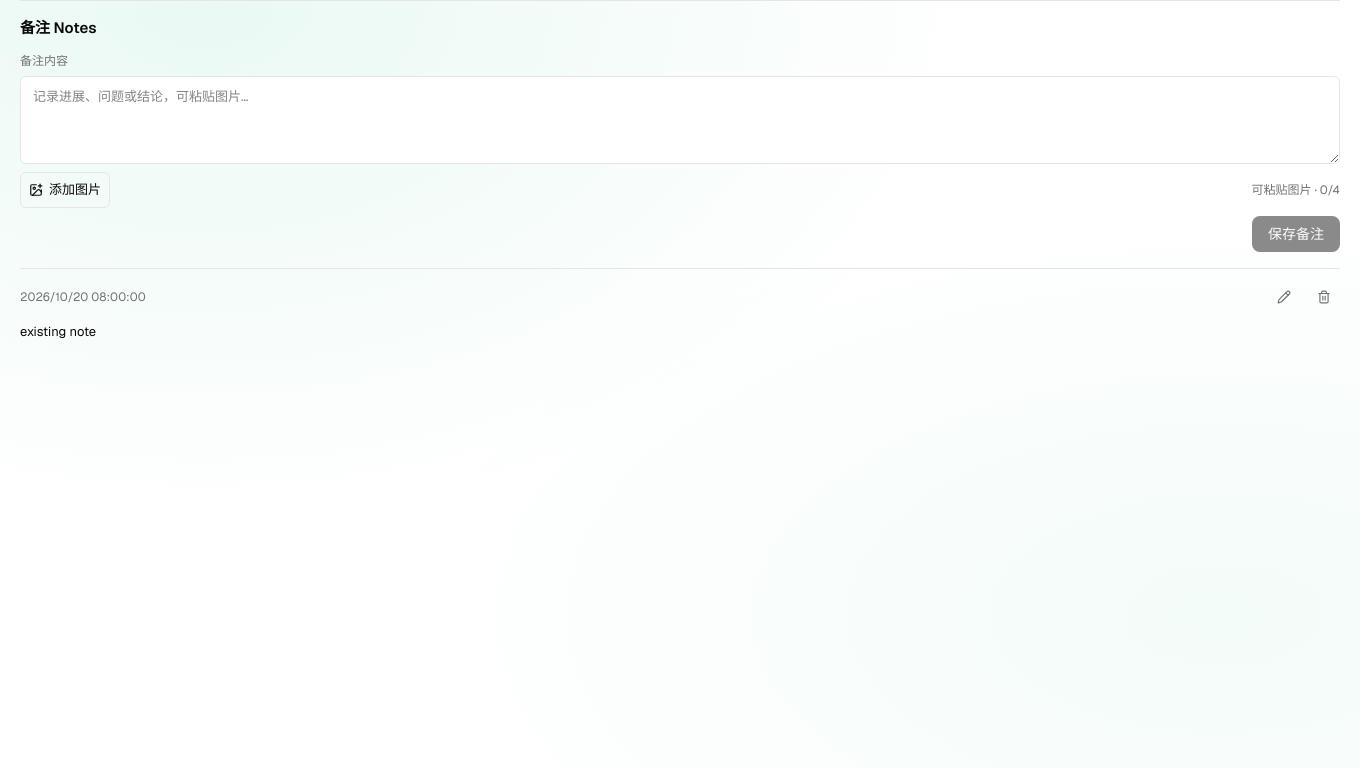
Test: task image notes › keeps conflict state and draft if loading the latest version fails
Check: the text "existing note" is shown, box [20,322,96,340]
Click the button named "编辑备注" at [1284, 296], box [1268,280,1300,312]
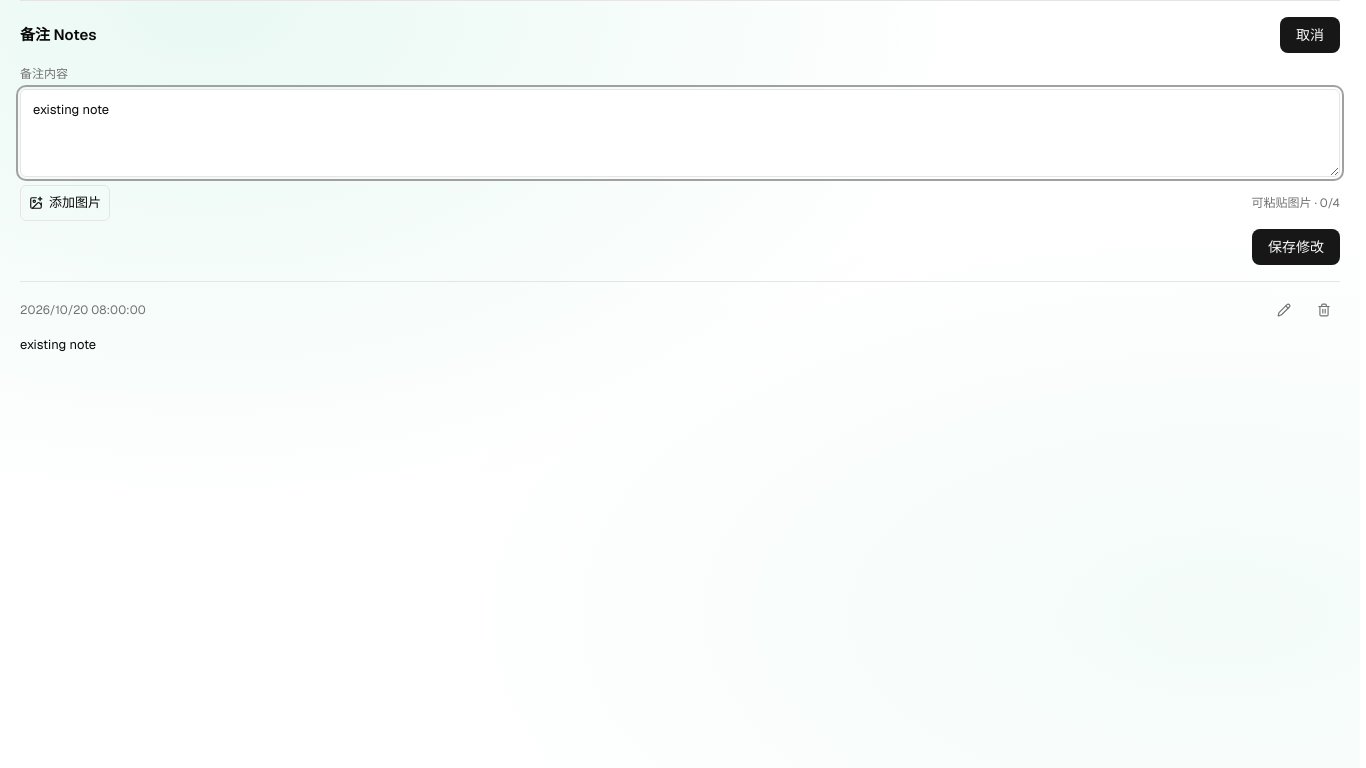
Type " draft" into the text box at [680, 133], box [20,89,1340,177]
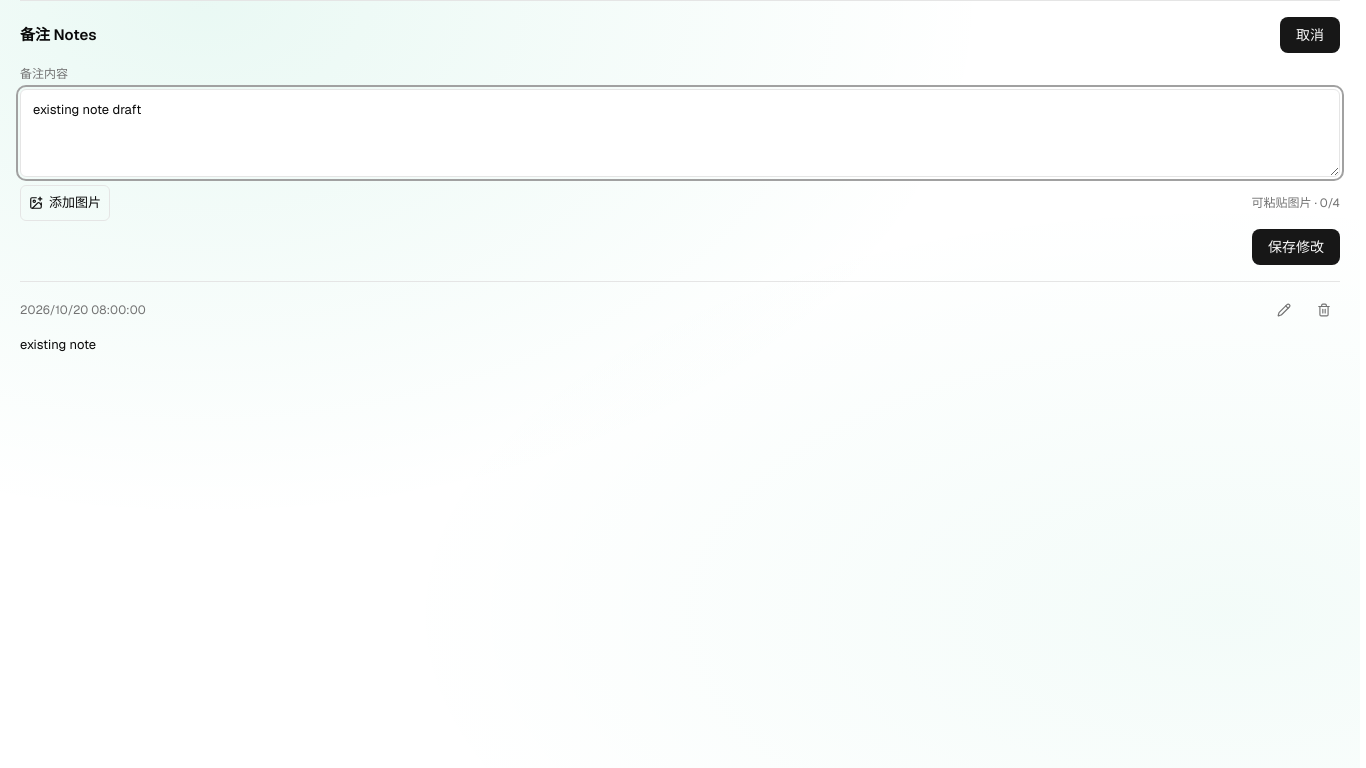
Click the button "保存修改" at [1296, 247], box [1252,229,1340,265]
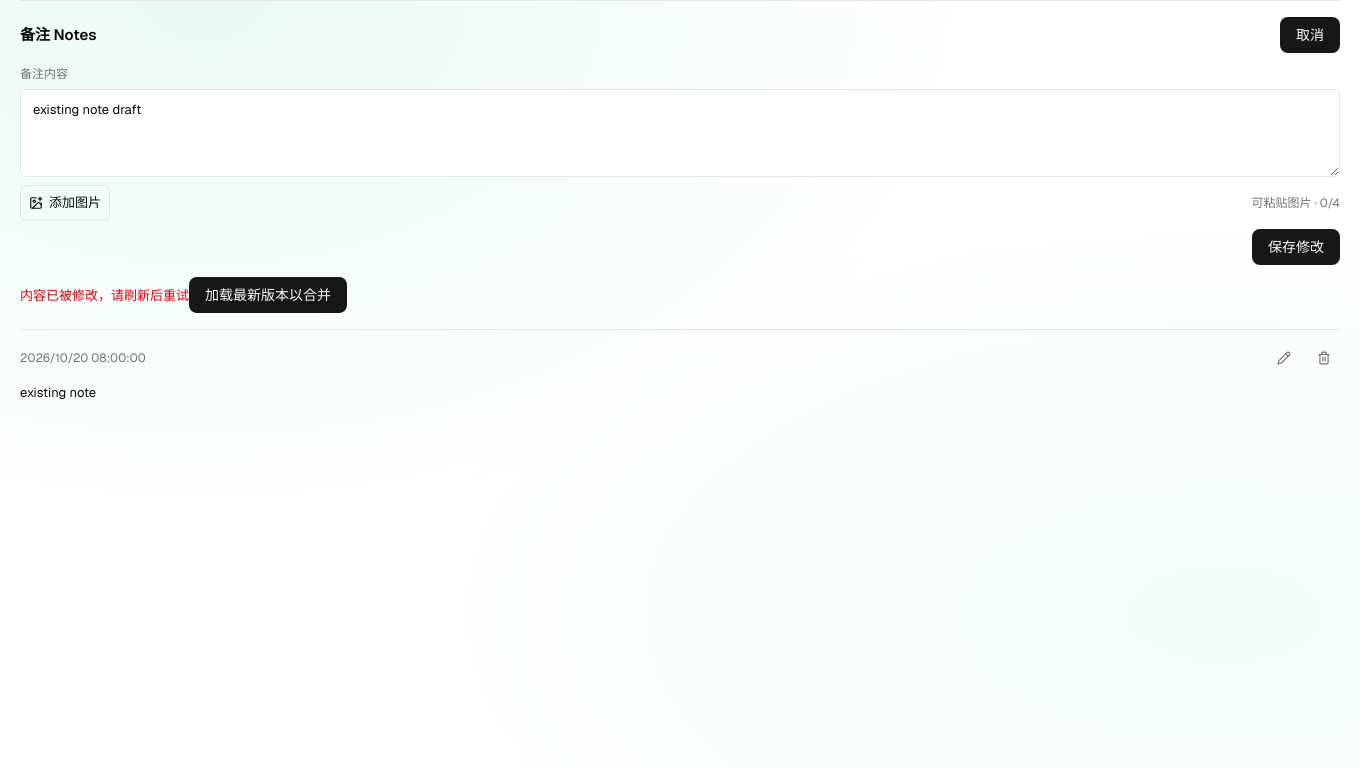
Check: the message "内容已被修改，请刷新后重试 加载最新版本以合并" is shown, box [20,277,347,313]
Click the button "加载最新版本以合并" at [268, 295], box [189,277,347,313]
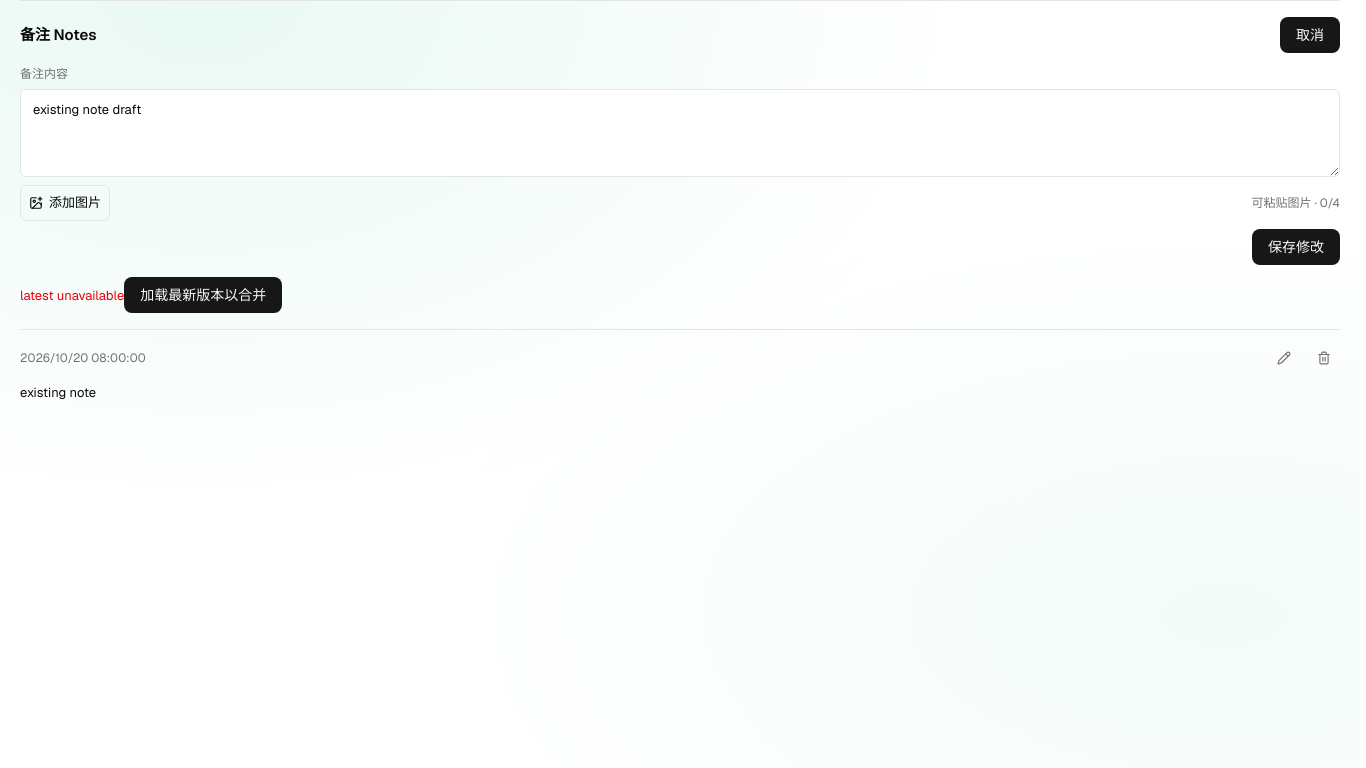
Check: the text box holds "existing note draft", box [20,89,1340,177]
Check: the text "latest unavailable" is shown, box [20,287,124,304]
